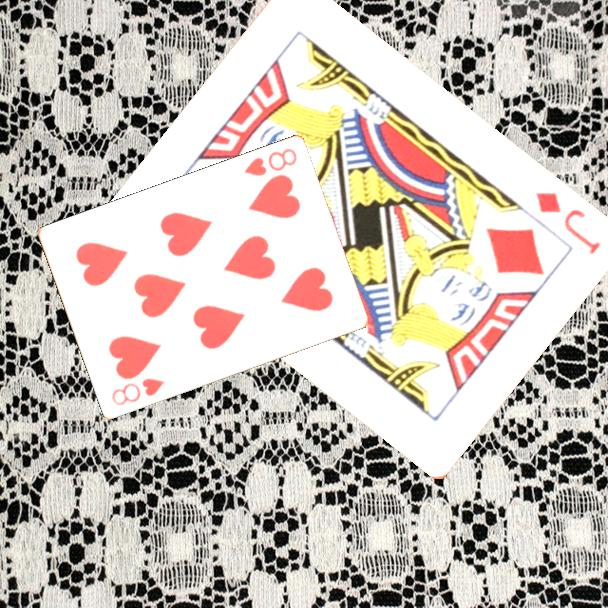d11: (531, 188, 603, 258)
h08: (240, 145, 300, 179), (108, 375, 167, 409)
